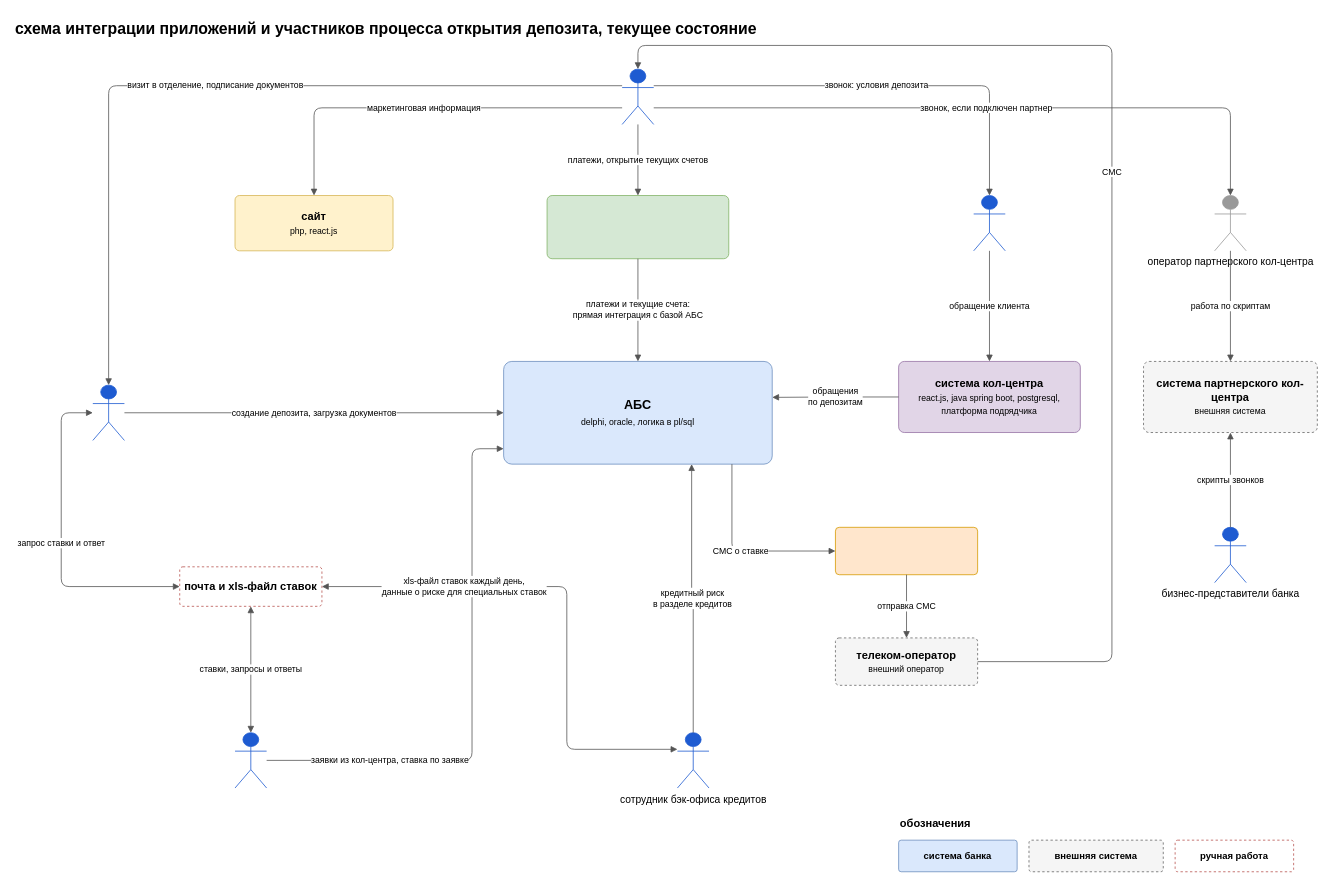
The diagram is 1331 pixels wide and 886 high, and some of its shapes have lost their labels. Each missing label, with the box of its shape:
интернет-банк asp.net mvc 4.5, ms sql, платформа подрядчика: (546, 195, 729, 259)
клиент: (621, 68, 654, 124)
менеджер бэк-офиса депозитов: (234, 732, 267, 788)
оператор кол-центра: (973, 195, 1005, 251)
СМС-шлюз: (835, 527, 978, 575)
сотрудник отделения: (92, 384, 124, 440)
